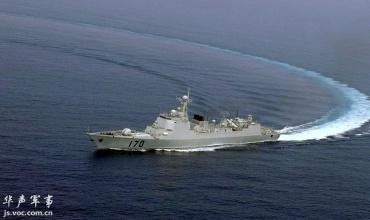warship: (84, 89, 280, 151)
